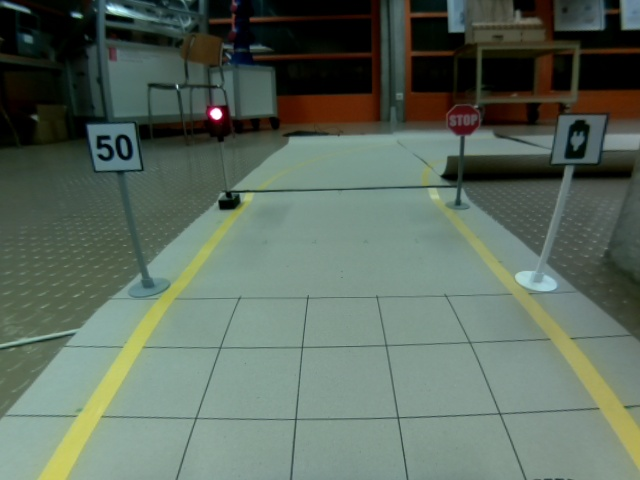battery: (548, 112, 609, 166)
speed50: (85, 121, 145, 173)
stop: (446, 104, 481, 136)
trafficLightRed: (206, 104, 231, 137)
